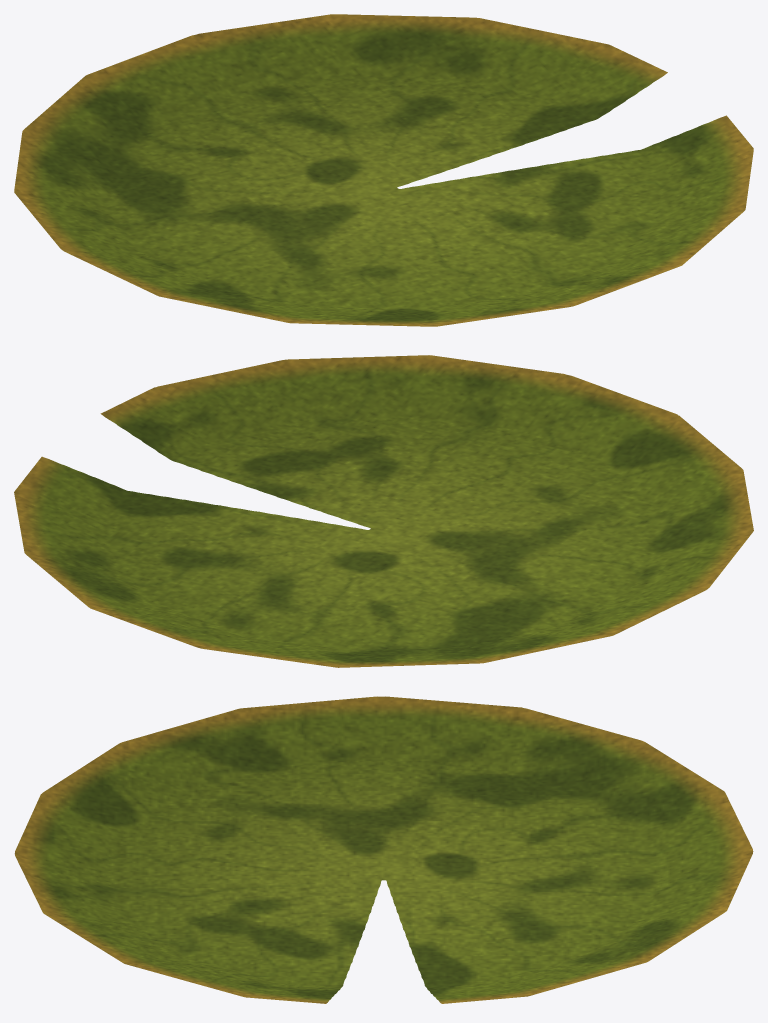
File: mm8_deco_plant37.glb
The picture shows the model from 3 angles, top to bottom: view 1: azimuth 30°, elevation 25°; view 2: azimuth 150°, elevation 25°; view 3: azimuth 270°, elevation 25°; orthographic projection.
Visible parts, largest first — view 1: Plant; view 2: Plant; view 3: Plant.
Boxes of the visible parts, x1,y1,x2,y2 form: Plant: (14,14,753,326); Plant: (14,355,753,667); Plant: (14,696,753,1003).
Size of the model in its own units: 0.8445 by 0.0266 by 0.8445.
Materials: 1 (1 with a texture image).
